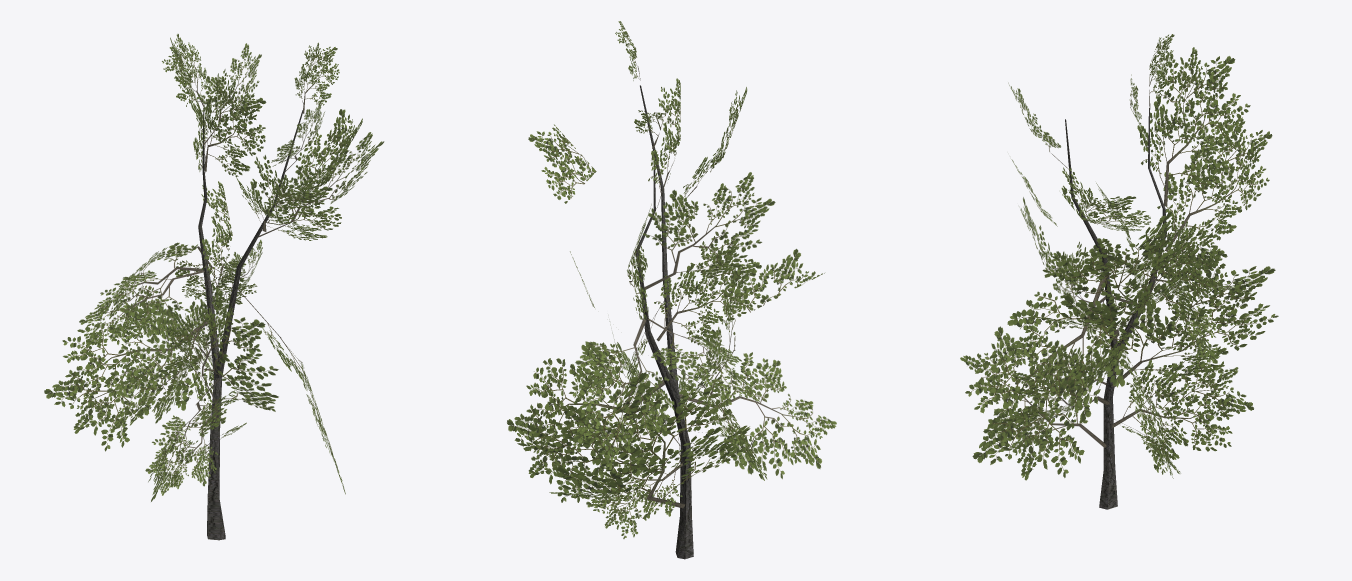
File: tree-08.glb
3 renders of one model, left to right at view 1: azimuth 30°, elevation 25°; view 2: azimuth 150°, elevation 25°; view 3: azimuth 270°, elevation 25°, orthographic. The views are drawn at different scales.
Visible parts, largest first — view 1: Tree-02-4; view 2: Tree-02-4; view 3: Tree-02-4.
Boxes of the visible parts, <box> form: Tree-02-4: <box>44,34,384,540</box>; Tree-02-4: <box>507,21,836,559</box>; Tree-02-4: <box>960,34,1278,509</box>.
Bounding box in the file's own units: 3.84 × 5.49 × 4.4.
3 materials, 3 textured.
